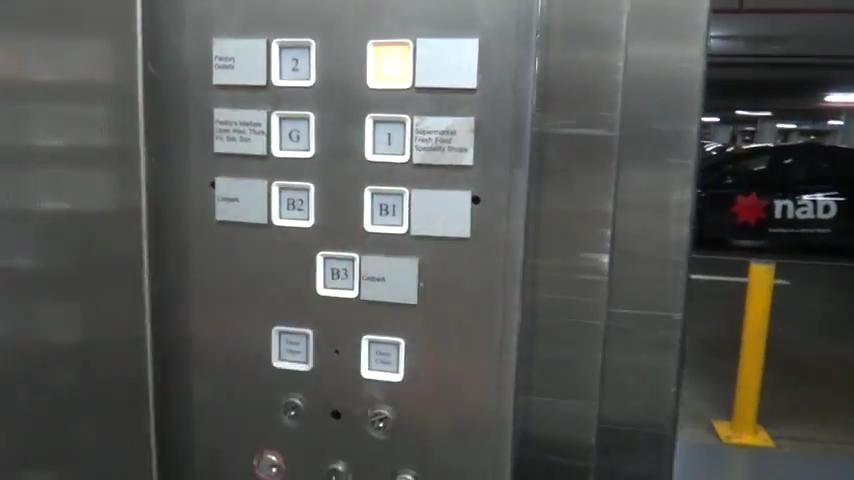1: (362, 111, 412, 165)
2: (268, 36, 318, 89)
B1: (361, 183, 410, 236)
B2: (268, 177, 316, 230)
B3: (313, 248, 361, 301)
G: (267, 107, 317, 160)
empty: (363, 37, 415, 92)
keyhole: (251, 448, 287, 480), (363, 408, 394, 439), (278, 394, 305, 422)
text: (358, 333, 406, 384), (269, 324, 315, 373)
